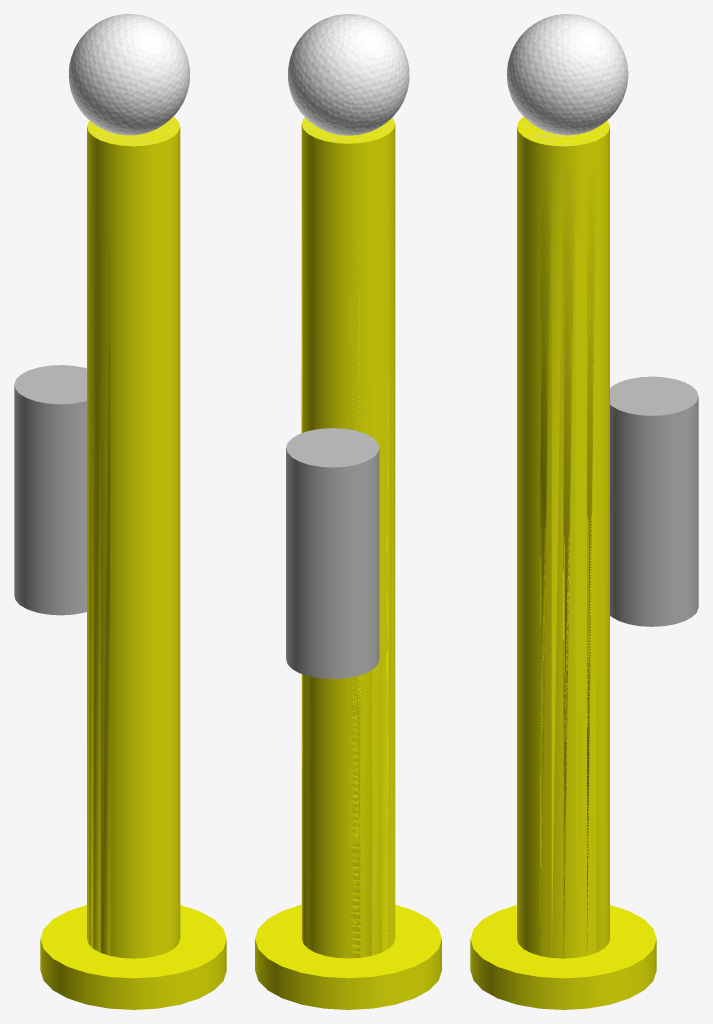
The model's file is Yellow_flare.dae.
The picture shows the model from 3 angles, left to right: view 1: azimuth 30°, elevation 25°; view 2: azimuth 150°, elevation 25°; view 3: azimuth 270°, elevation 25°; orthographic projection.
Visible parts, largest first — view 1: SketchUp.004, SketchUp.005, SketchUp, SketchUp.002, SketchUp.001; view 2: SketchUp.004, SketchUp.005, SketchUp, SketchUp.002, SketchUp.001; view 3: SketchUp.004, SketchUp.005, SketchUp, SketchUp.002, SketchUp.001.
Boxes of the visible parts, <box> form: SketchUp.004: <box>87,127,180,958</box>; SketchUp.005: <box>14,365,86,615</box>; SketchUp: <box>40,905,226,1009</box>; SketchUp.002: <box>68,14,189,135</box>; SketchUp.001: <box>87,116,179,146</box>; SketchUp.004: <box>301,124,395,958</box>; SketchUp.005: <box>286,428,379,678</box>; SketchUp: <box>255,904,441,1009</box>; SketchUp.002: <box>288,14,409,135</box>; SketchUp.001: <box>302,117,394,143</box>; SketchUp.004: <box>517,127,609,958</box>; SketchUp.005: <box>610,376,698,626</box>; SketchUp: <box>470,905,656,1009</box>; SketchUp.002: <box>507,14,628,135</box>; SketchUp.001: <box>517,116,609,146</box>.
Size of the model in its own units: 0.16 by 0.196 by 0.9004.
